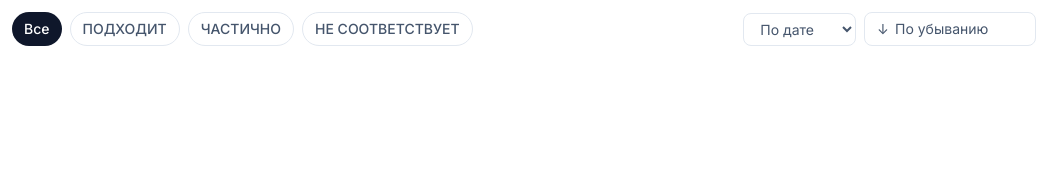
FilterPanel › переключает порядок сортировки
The width and height of the screenshot is (1048, 172).
Click the text "По убыванию". click: (942,28)
box: left=895, top=20, right=988, bottom=37
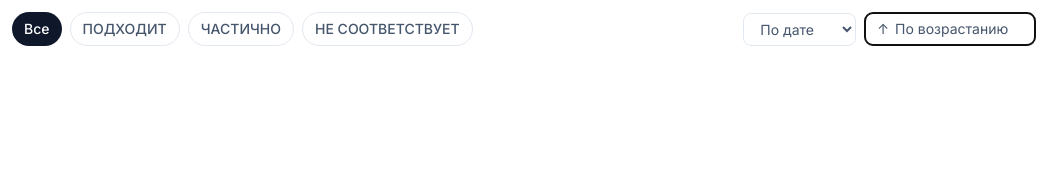
Expected: the text "По возрастанию" is shown, left=895, top=19, right=1023, bottom=39
